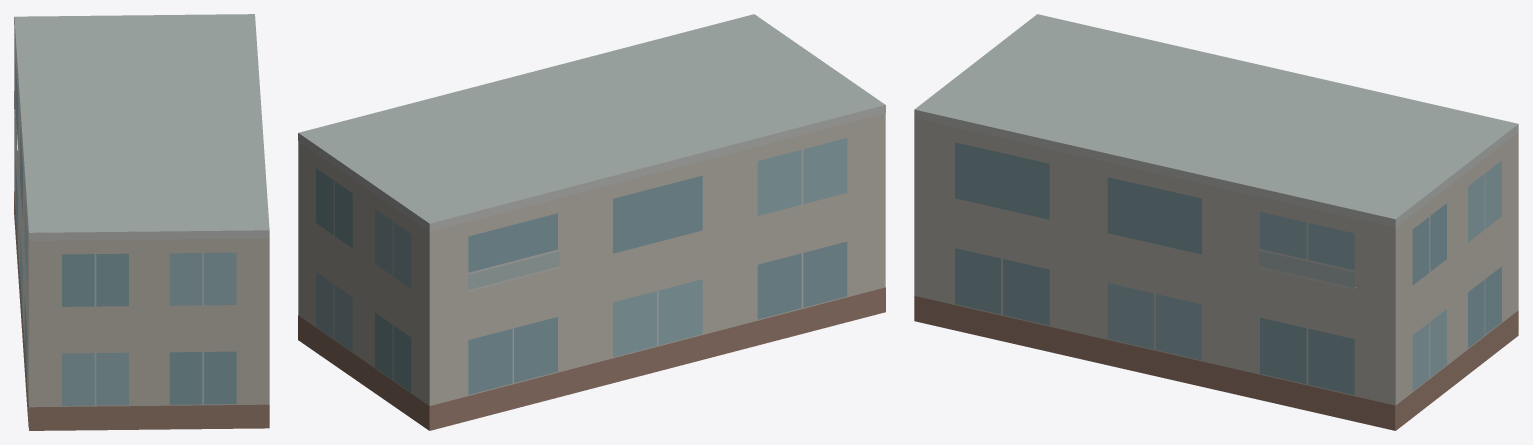
File: survey-upis-32710854.glb
The picture shows the model from 3 angles, left to right: view 1: azimuth 30°, elevation 25°; view 2: azimuth 150°, elevation 25°; view 3: azimuth 270°, elevation 25°; orthographic projection. The views are drawn at different scales.
Visible parts, largest first — view 1: survey-upis-32710854.tmp; view 2: survey-upis-32710854.tmp; view 3: survey-upis-32710854.tmp.
Boxes of the visible parts, <box> form: survey-upis-32710854.tmp: <box>14,14,269,430</box>; survey-upis-32710854.tmp: <box>298,14,885,430</box>; survey-upis-32710854.tmp: <box>914,14,1518,430</box>.
Size of the model in its own units: 12.7 by 6.1 by 15.8.
